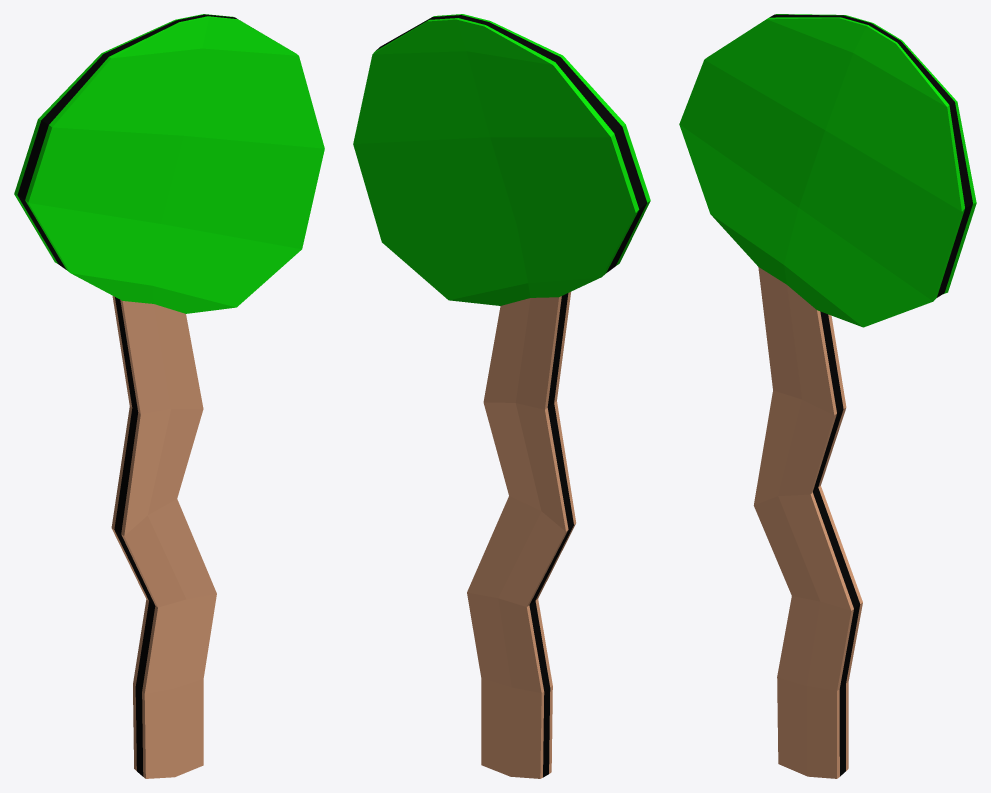
File: CardboardTree02.fbx
3 views of the same model, side by side, from view 1: azimuth 30°, elevation 25°; view 2: azimuth 150°, elevation 25°; view 3: azimuth 330°, elevation 25° (orthographic).
Parts seen in each view (by area): view 1: Cube.003; view 2: Cube.003; view 3: Cube.003.
Boxes of the visible parts, x1=… form: Cube.003: x1=14, y1=14, x2=324, y2=778; Cube.003: x1=353, y1=14, x2=650, y2=778; Cube.003: x1=679, y1=14, x2=976, y2=778.
Bounding box in the file's own units: 436 × 1074 × 74.72.
